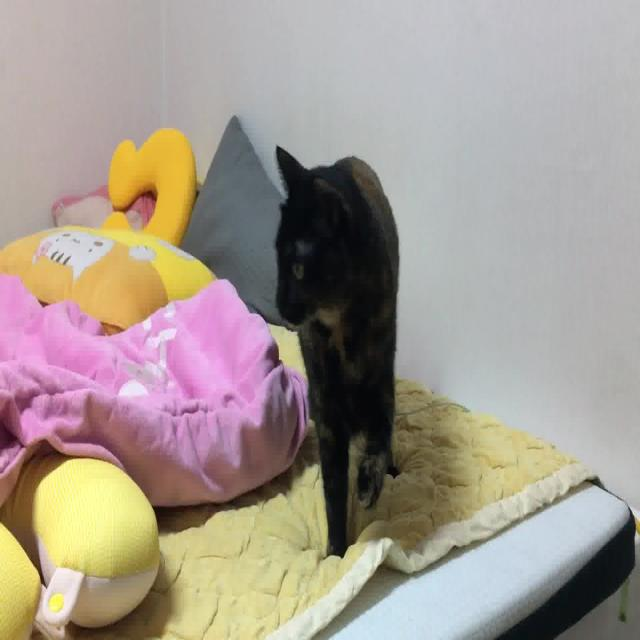cat: (269, 144, 401, 564)
